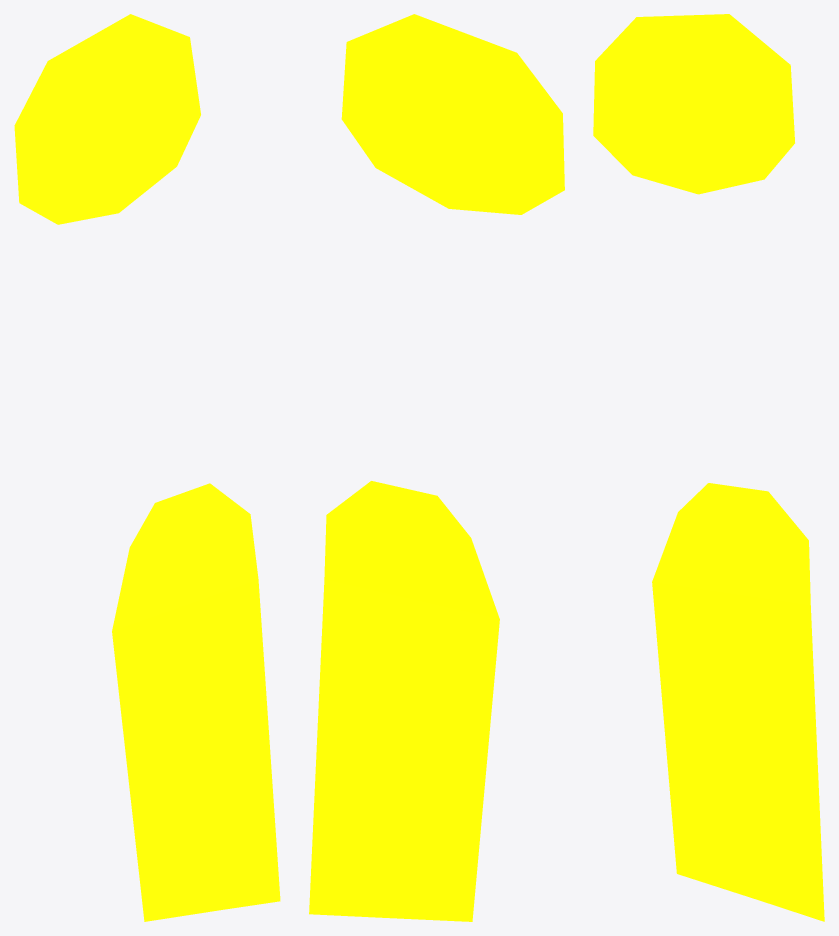
The model's file is Main house lights.fbx.
3 renders of one model, left to right at view 1: azimuth 30°, elevation 25°; view 2: azimuth 150°, elevation 25°; view 3: azimuth 330°, elevation 25°, orthographic. The views are drawn at different scales.
Parts seen in each view (by area): view 1: Cube.015, Cube.011; view 2: Cube.015, Cube.011; view 3: Cube.015, Cube.011.
Boxes of the visible parts, box(x1,y1,x2,y2) form: Cube.015: box(112, 483, 280, 921); Cube.011: box(14, 14, 200, 224); Cube.015: box(309, 481, 499, 921); Cube.011: box(341, 14, 564, 214); Cube.015: box(652, 483, 824, 921); Cube.011: box(593, 14, 794, 194).
Size of the model in its own units: 257 by 874 by 64.64.
